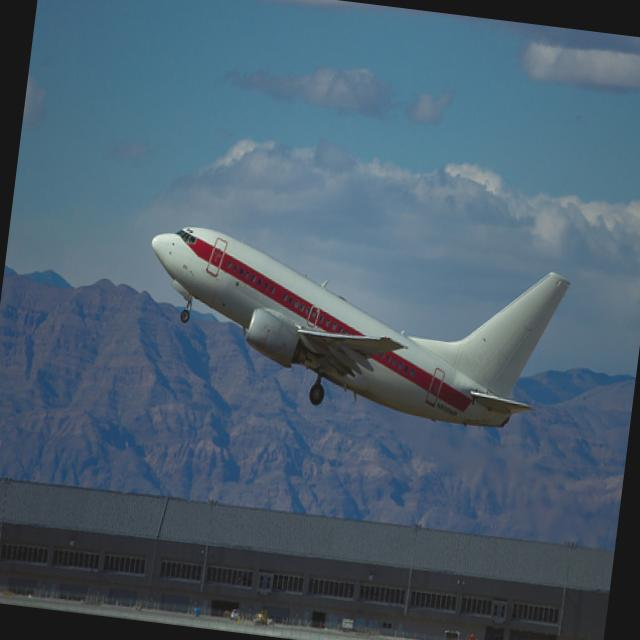Vehicle: (442, 627, 460, 640)
